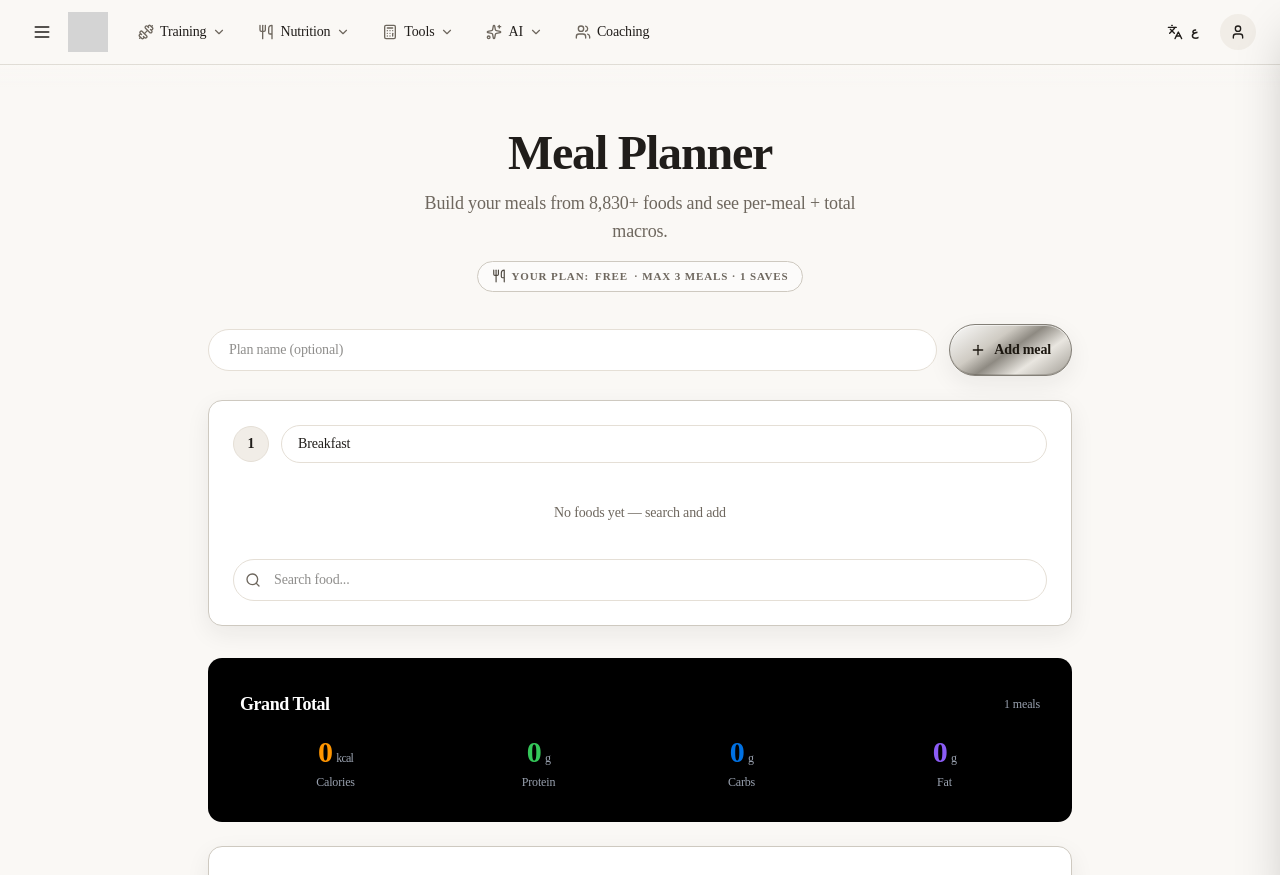
W1-4c behavior — the real page through the B-03 race › pick end-to-end: the chosen food lands in the meal plan and the surface resets
Type "chick" into the field with placeholder "بحث عن صنف غذائي..." at (640, 580), box [233, 558, 1047, 600]
Wait 300 ms
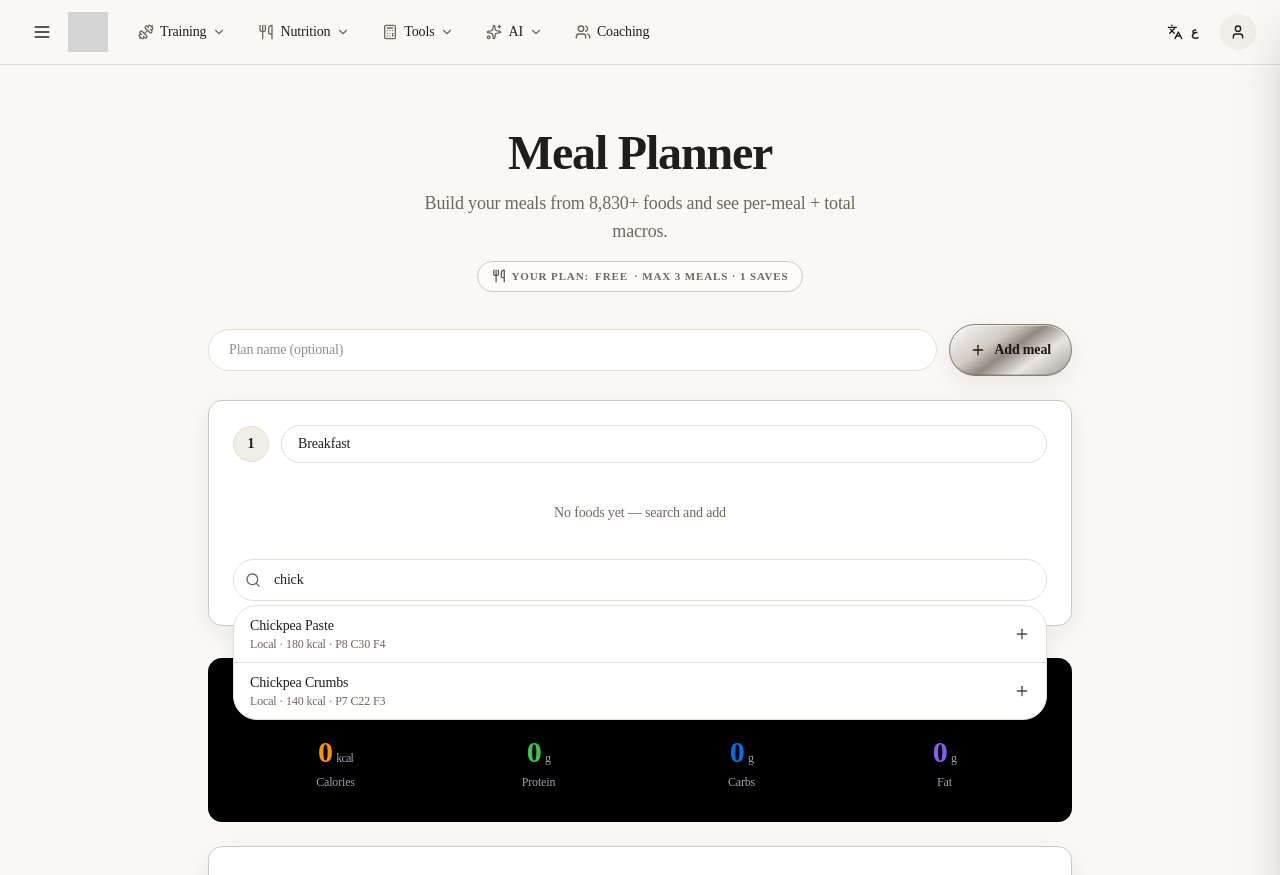
Click the button "Chickpea Paste Local · 180 kcal · P8 C30 F4" at (292, 625), box [234, 606, 1046, 662]
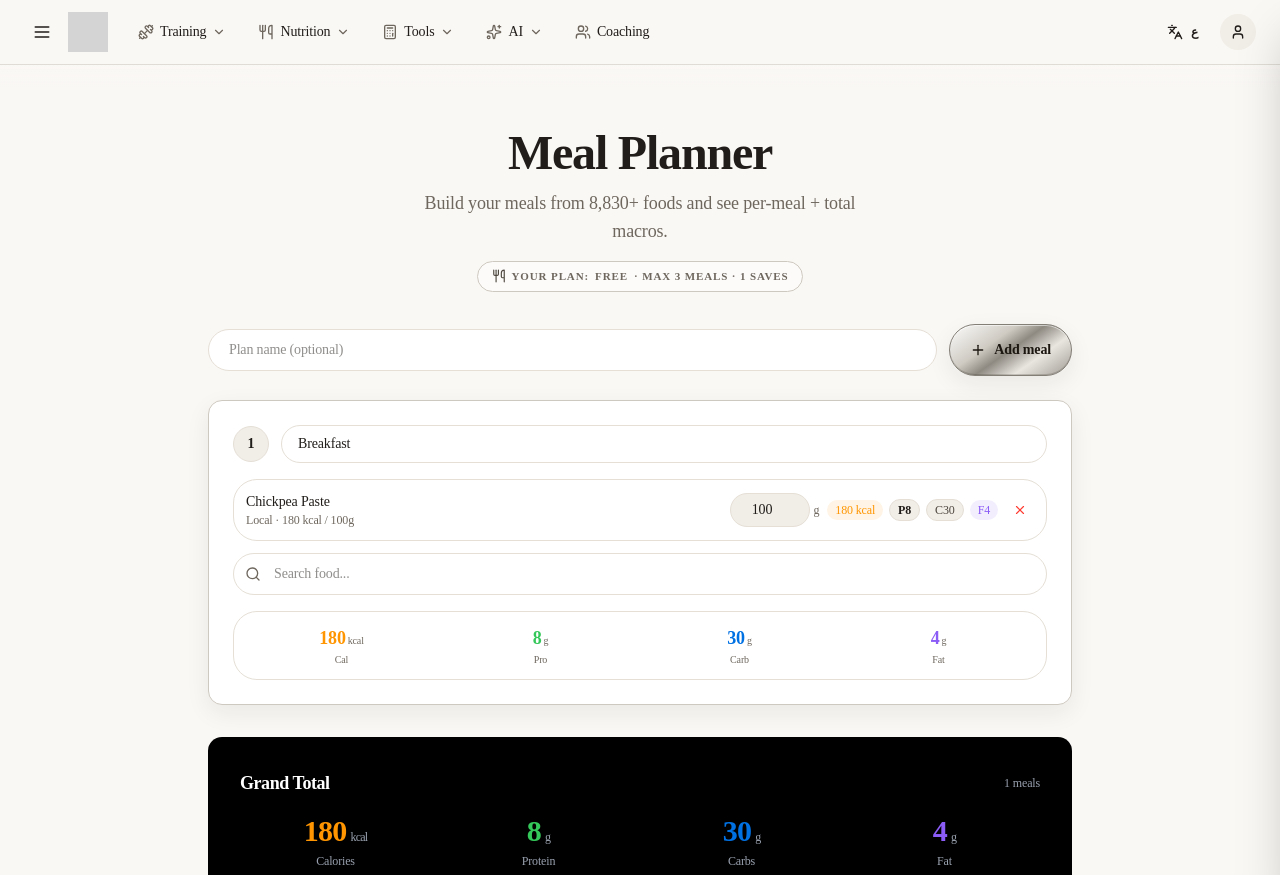
Expected: the text "Chickpea Paste" is shown, [246, 494, 330, 508]
Expected: the text "P8" is shown, [889, 498, 920, 520]
Expected: the number field is shown, [730, 492, 810, 526]
